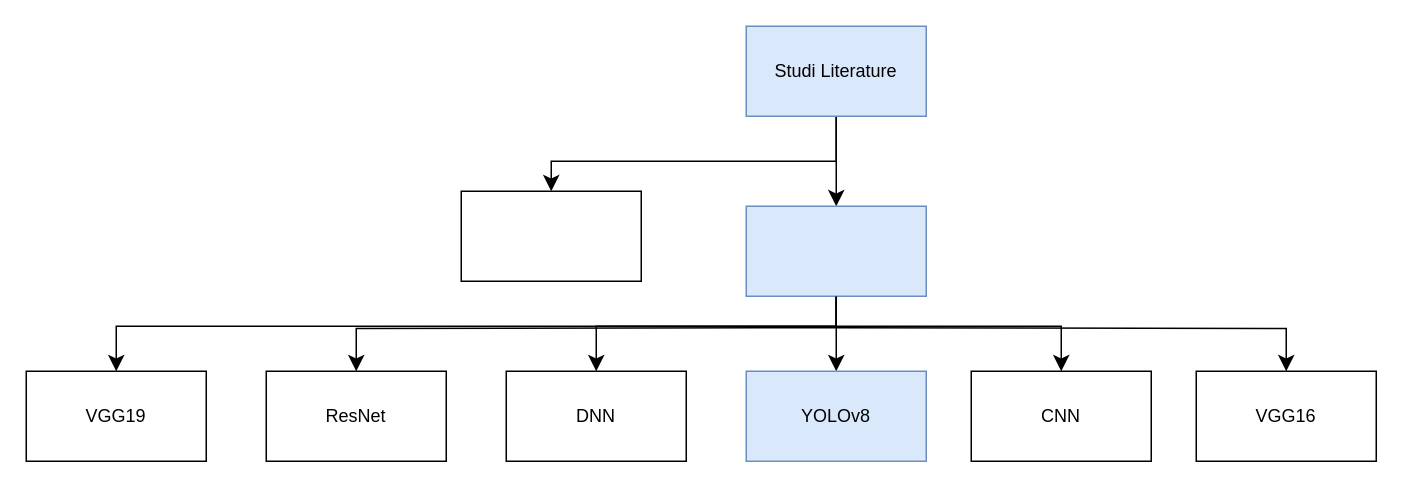
The diagram is 1403 pixels wide and 488 high, and some of its shapes have lost their labels. The centre of each missing label's shape, as x and y in pixels:
Image Detection: (x=835, y=250)
Image Processing: (x=550, y=235)
